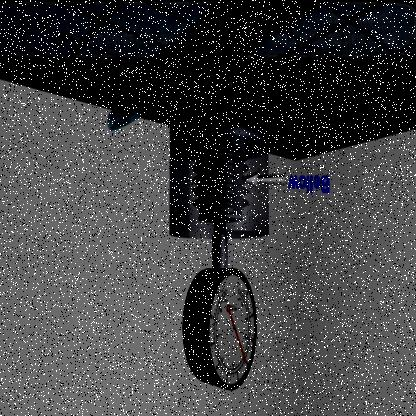needle: (235, 330, 248, 365)
